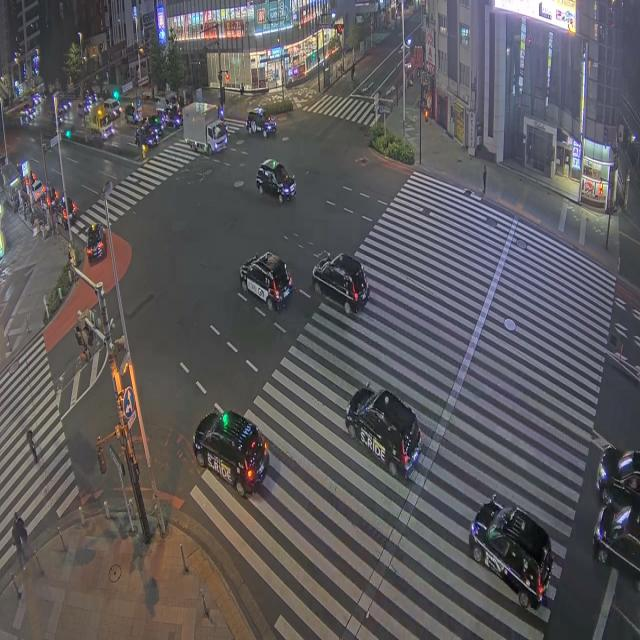car: (469, 496, 553, 608), (346, 386, 421, 478), (194, 412, 269, 496), (594, 504, 639, 591), (313, 254, 368, 314), (240, 252, 292, 311), (597, 447, 639, 505), (256, 160, 295, 203), (246, 107, 276, 137), (86, 224, 105, 262), (55, 192, 78, 223), (54, 202, 76, 229), (135, 125, 158, 146), (163, 105, 182, 128), (156, 93, 178, 112), (145, 114, 164, 135), (103, 99, 121, 119), (32, 180, 46, 202), (125, 104, 140, 124), (20, 105, 34, 123), (54, 109, 65, 123), (59, 100, 71, 111), (32, 93, 41, 106)
truck: (183, 103, 227, 154), (87, 104, 114, 139)
van: (103, 99, 120, 118)
